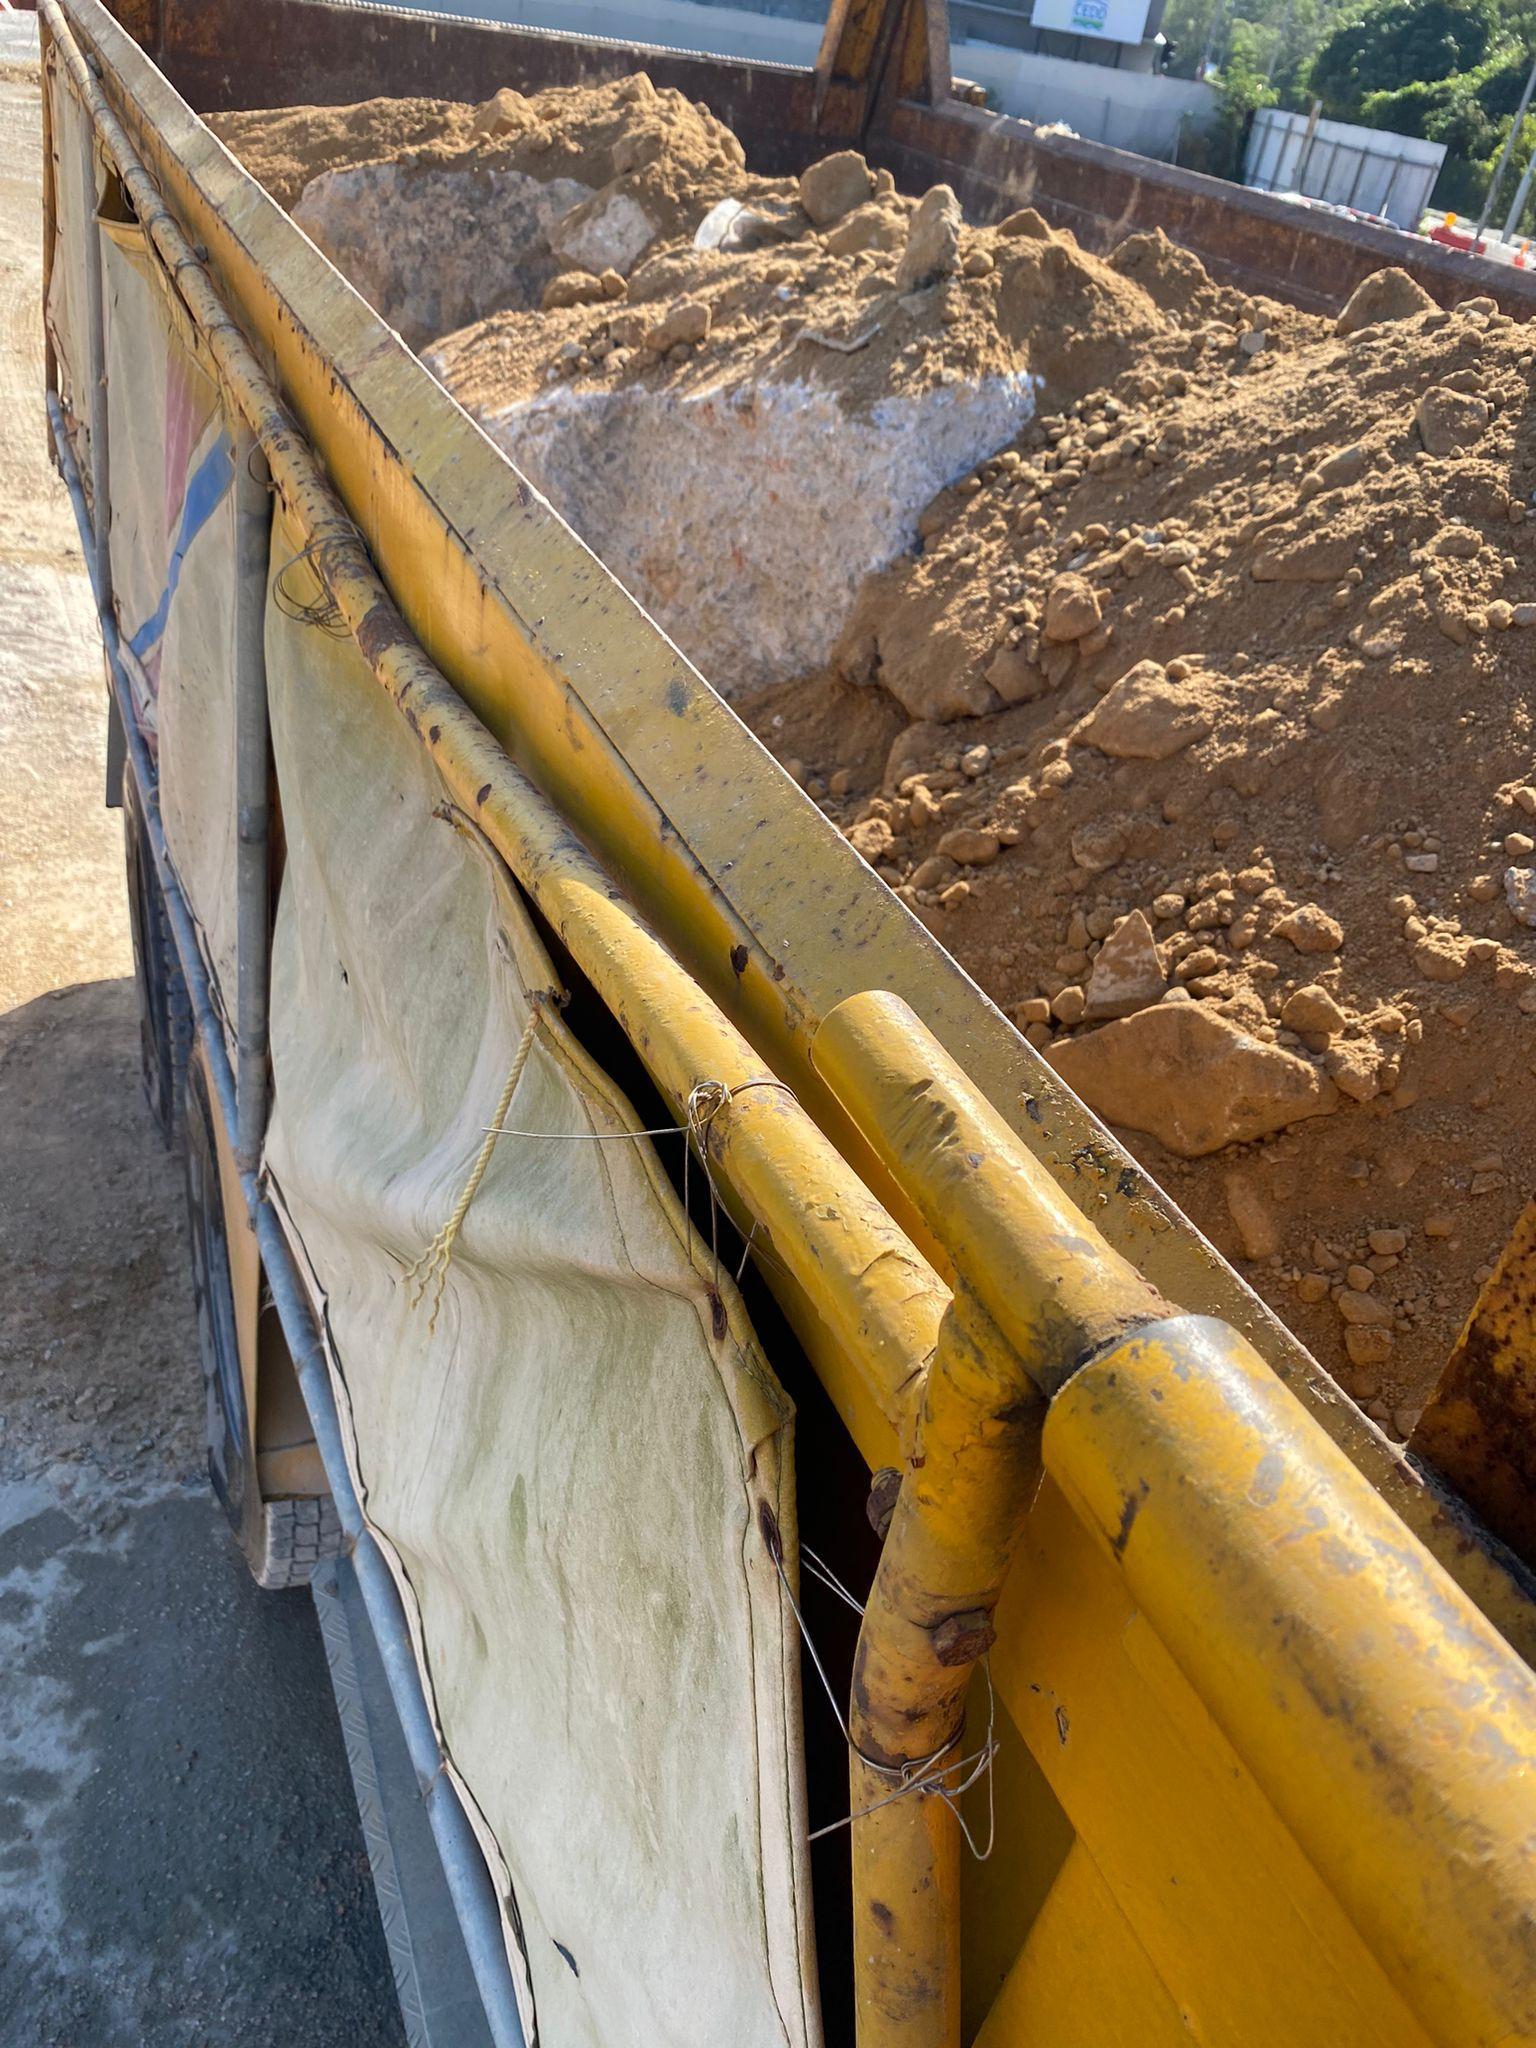dry: (203, 90, 1536, 1430)
